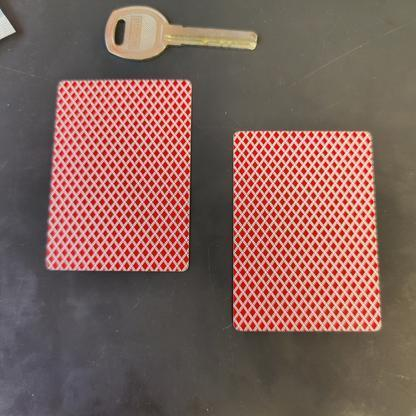card: (223, 119, 387, 339), (42, 66, 198, 278)
